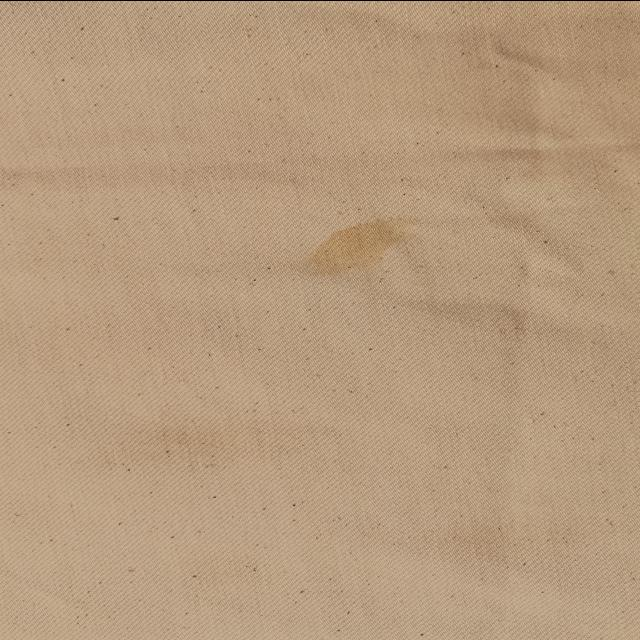taaaches: (274, 206, 412, 284)
